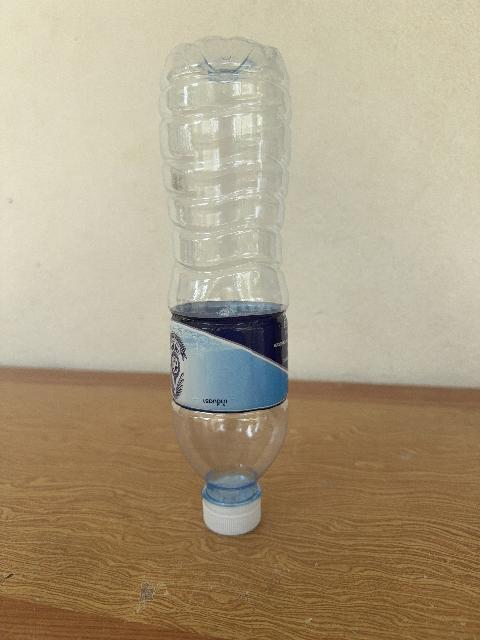bottle: (160, 37, 290, 534)
